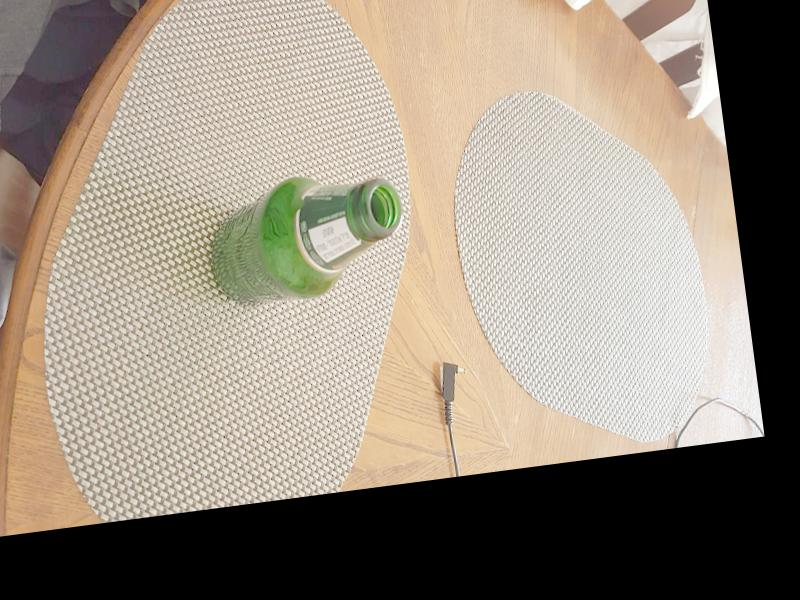Beer: (200, 163, 409, 309)
